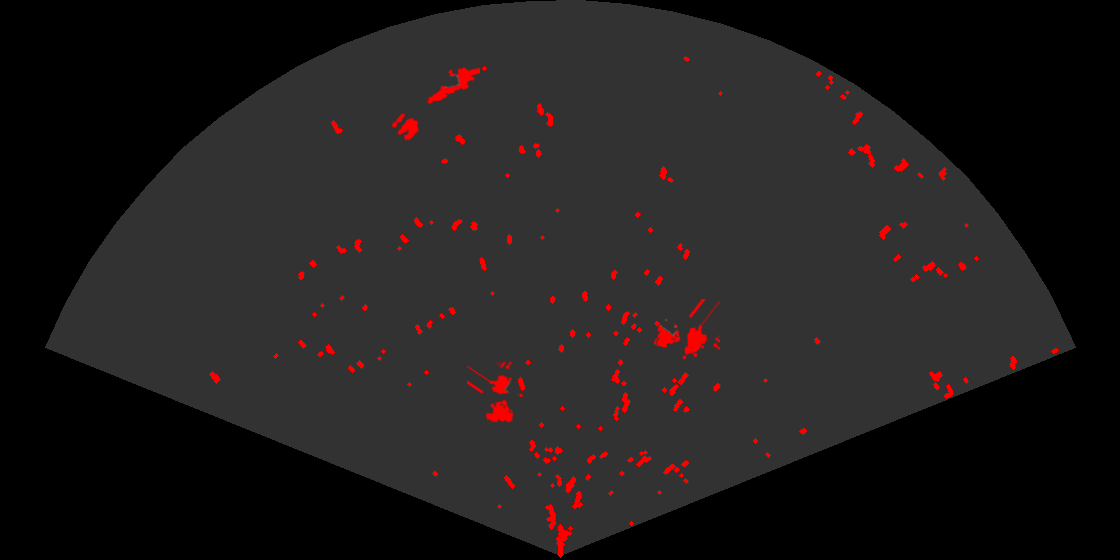ball: (390, 112, 421, 142)
cage: (655, 299, 720, 361), (467, 362, 525, 424)
frogman: (425, 65, 480, 105)
